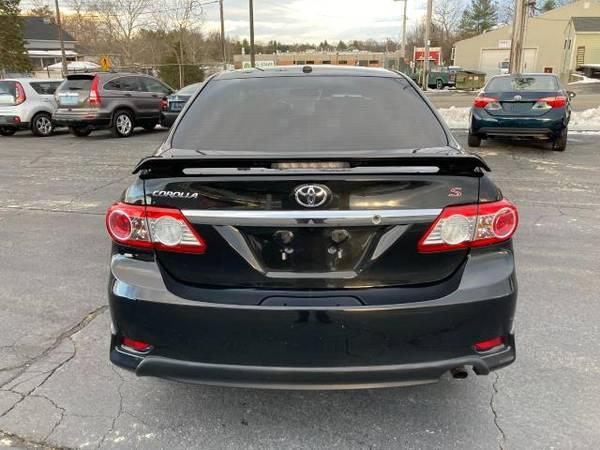Left_Taillight: (105, 203, 205, 256)
Rear_Bumper: (107, 238, 517, 391)
Rear_Windshield: (163, 73, 454, 153)
Right_Taillight: (418, 198, 520, 251)
Roof: (205, 64, 403, 80)
Tailgate: (123, 146, 501, 290)
